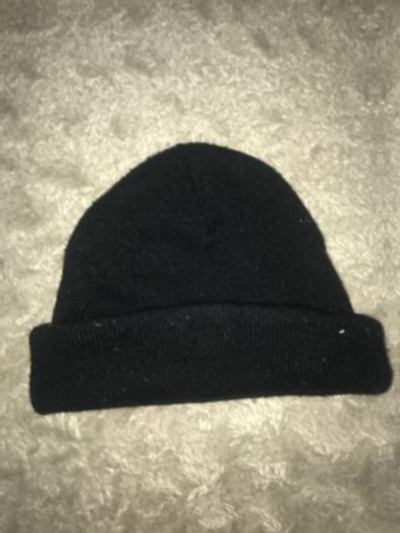Hat: (0, 88, 389, 445), (387, 57, 400, 414)
